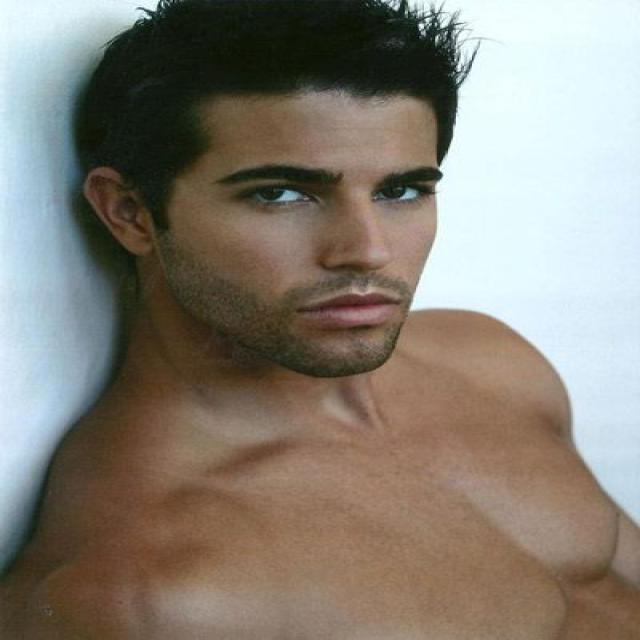front: (208, 139, 485, 355)
